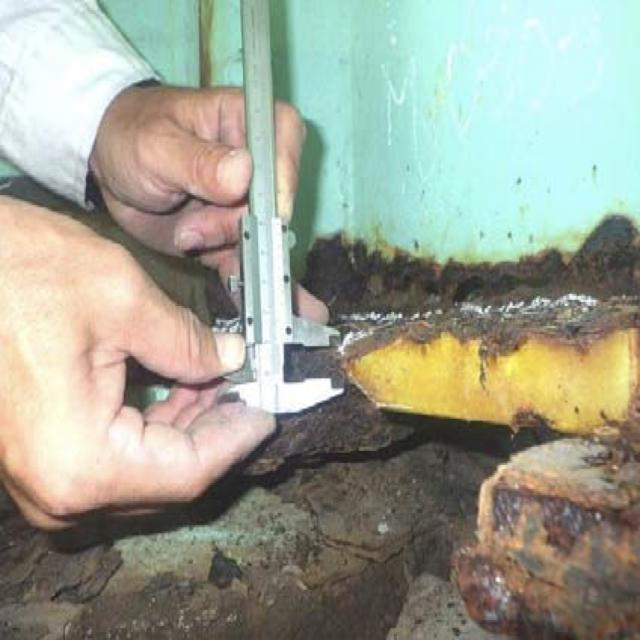corrosion: (310, 212, 640, 627)
